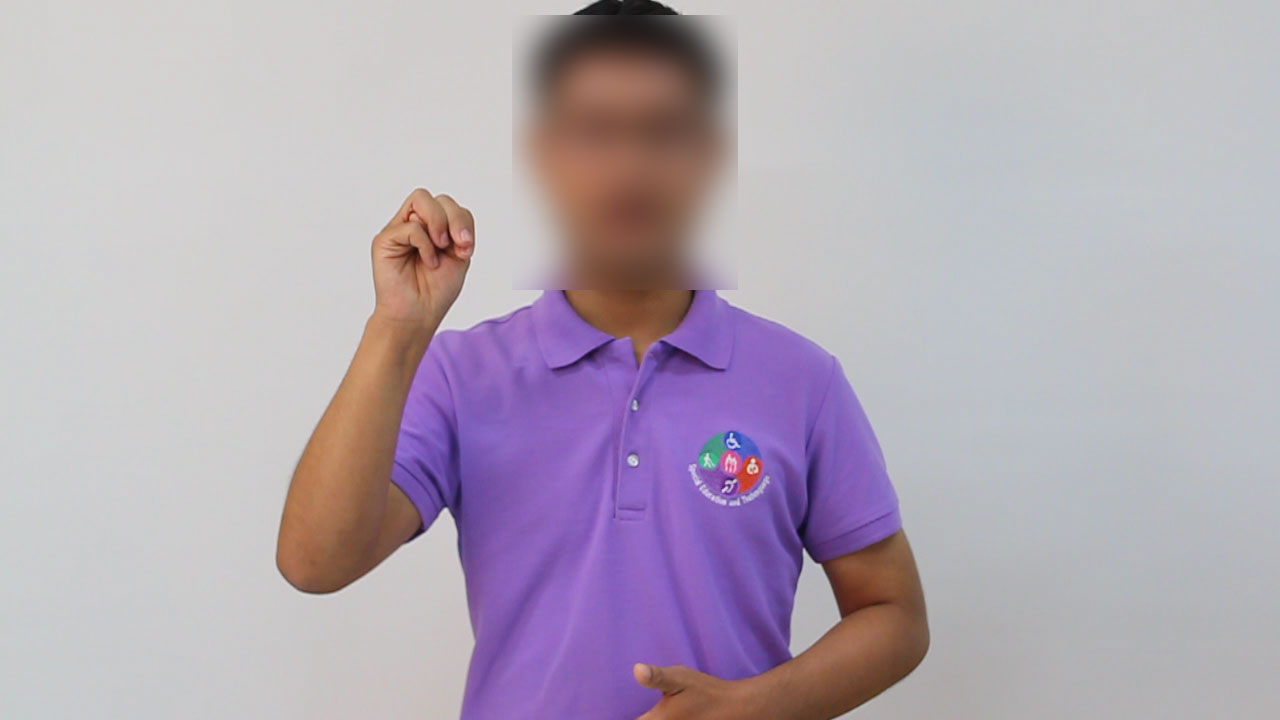mor: (357, 169, 486, 341)
